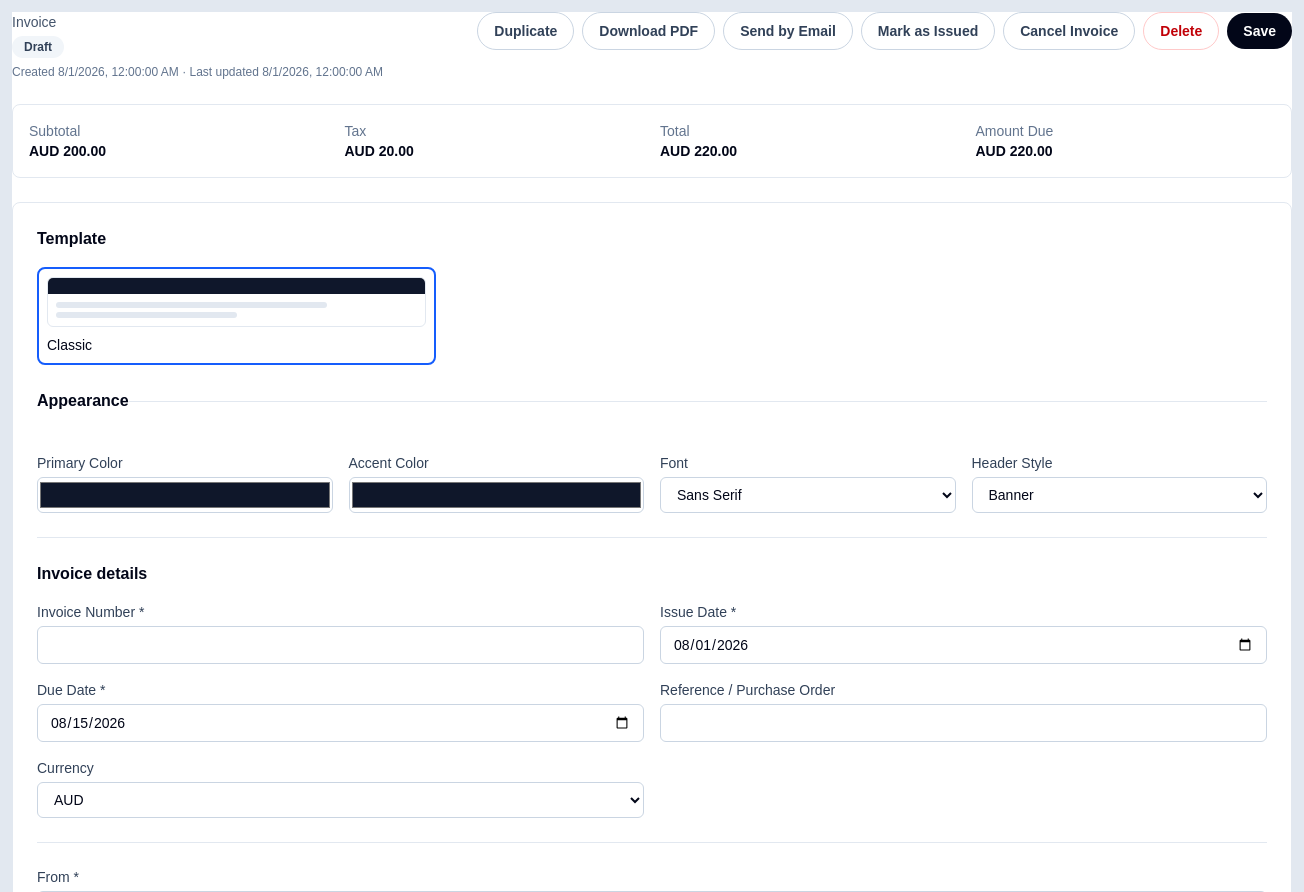
InvoiceDetail › blocks saving an invalid invoice and shows field-level errors
Step 1. Click the button "Save" → (1260, 31), box [1227, 13, 1292, 49]
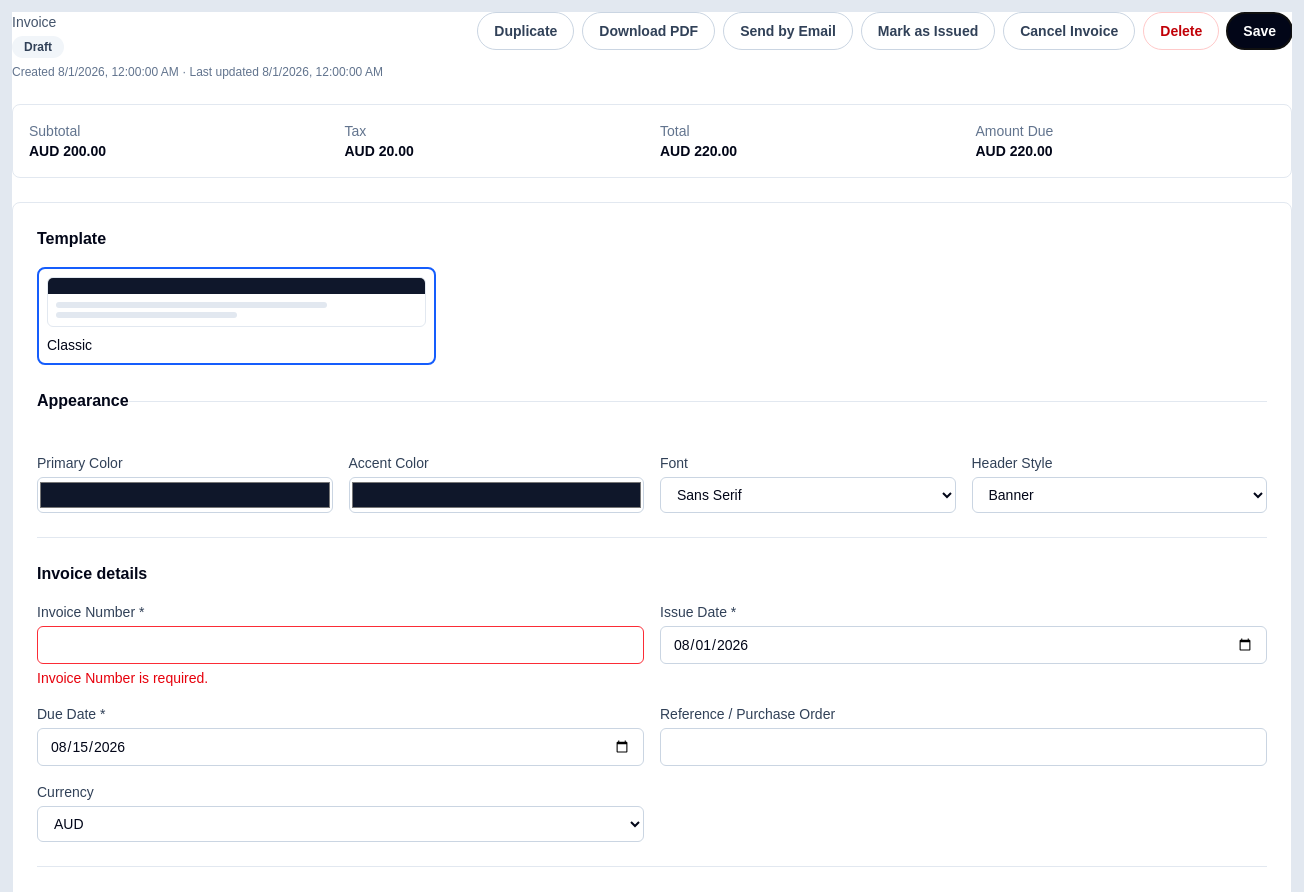
Result: the text "Invoice Number is required." is shown at [37, 670, 208, 686]
